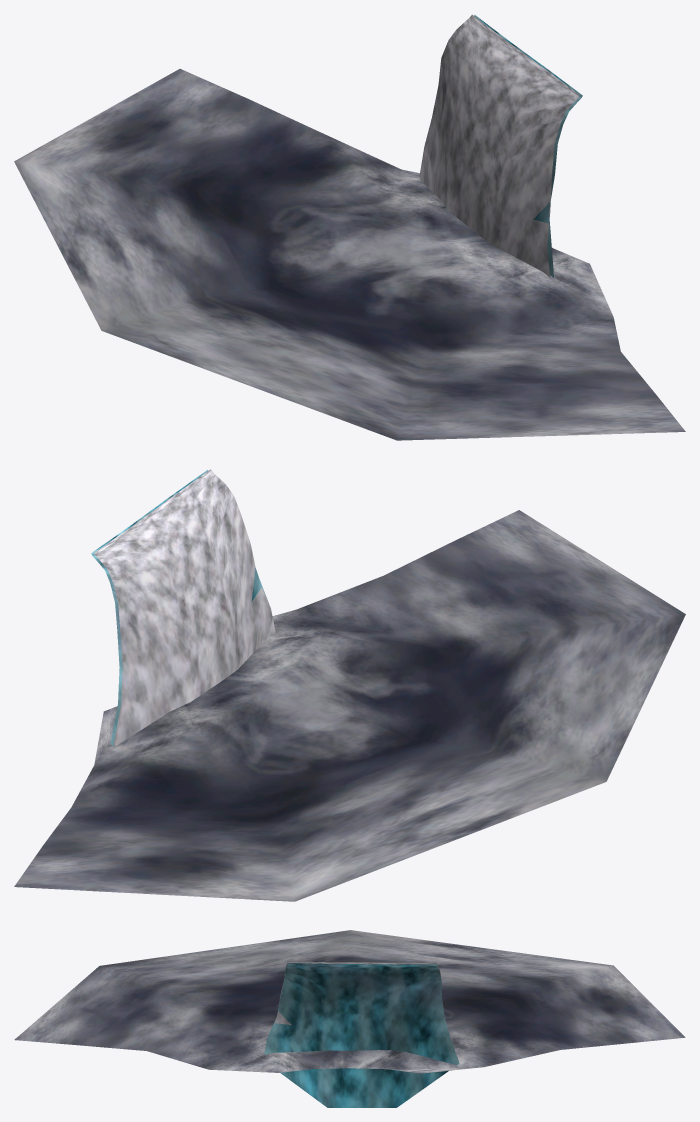
File: EKH_THRONE_PS_TH_WATERFALLS484736.fbx
The picture shows the model from 3 angles, top to bottom: view 1: azimuth 30°, elevation 25°; view 2: azimuth 150°, elevation 25°; view 3: azimuth 270°, elevation 25°; orthographic projection. The views are drawn at different scales.
Visible parts, largest first — view 1: EKH_THRONE_PS_TH_WATERFALLS484736; view 2: EKH_THRONE_PS_TH_WATERFALLS484736; view 3: EKH_THRONE_PS_TH_WATERFALLS484736.
Boxes of the visible parts, bbox=[...] form: EKH_THRONE_PS_TH_WATERFALLS484736: bbox=[14, 14, 685, 440]; EKH_THRONE_PS_TH_WATERFALLS484736: bbox=[14, 469, 685, 901]; EKH_THRONE_PS_TH_WATERFALLS484736: bbox=[14, 930, 685, 1107].
Size of the model in its own units: 91330 by 48418 by 180385.
3 materials, 3 textured.
